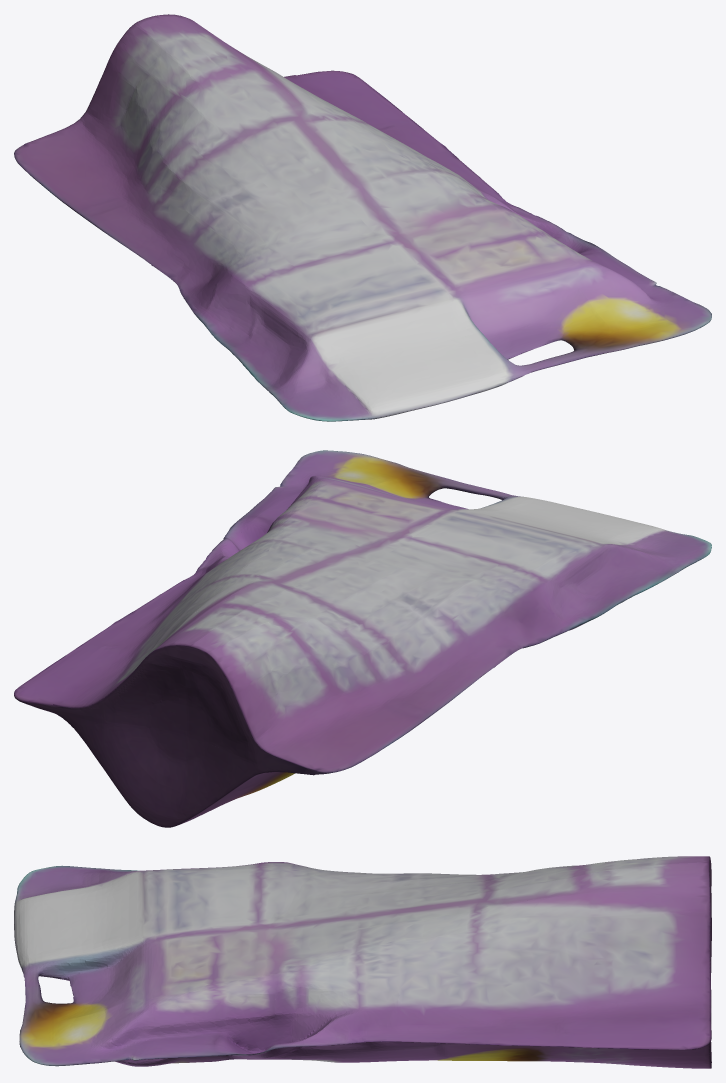
3 renders of one model, top to bottom at view 1: azimuth 30°, elevation 25°; view 2: azimuth 150°, elevation 25°; view 3: azimuth 270°, elevation 25°, orthographic. The views are drawn at different scales.
Parts seen in each view (by area): view 1: world; view 2: world; view 3: world.
Part boxes in pixels (bbox=[...]): world: bbox=[14, 14, 711, 421]; world: bbox=[14, 450, 711, 827]; world: bbox=[14, 856, 711, 1068].
Bounding box in the file's own units: 0.1226 × 0.0541 × 0.1814.
